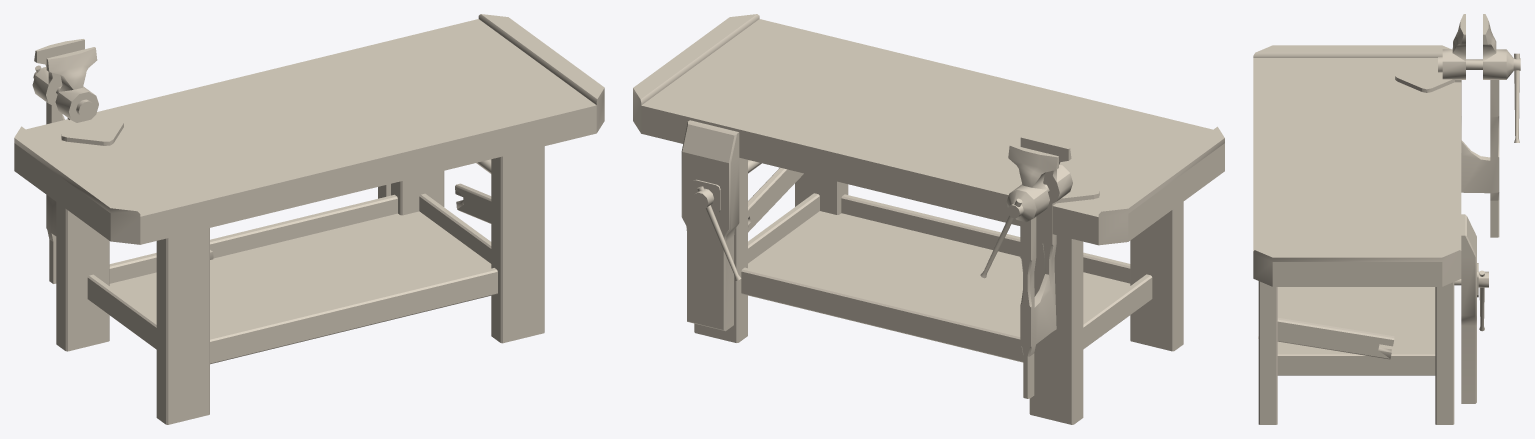
File: tablework2.fbx
3 views of the same model, side by side, from view 1: azimuth 30°, elevation 25°; view 2: azimuth 150°, elevation 25°; view 3: azimuth 270°, elevation 25° (orthographic). The views are drawn at different scales.
Parts seen in each view (by area): view 1: Forge_WorkTable; view 2: Forge_WorkTable; view 3: Forge_WorkTable.
Part boxes in pixels (x1=…): Forge_WorkTable: x1=14, y1=14, x2=604, y2=424; Forge_WorkTable: x1=633, y1=14, x2=1224, y2=424; Forge_WorkTable: x1=1253, y1=14, x2=1520, y2=424.
Size of the model in its own units: 233 by 127 by 124.
